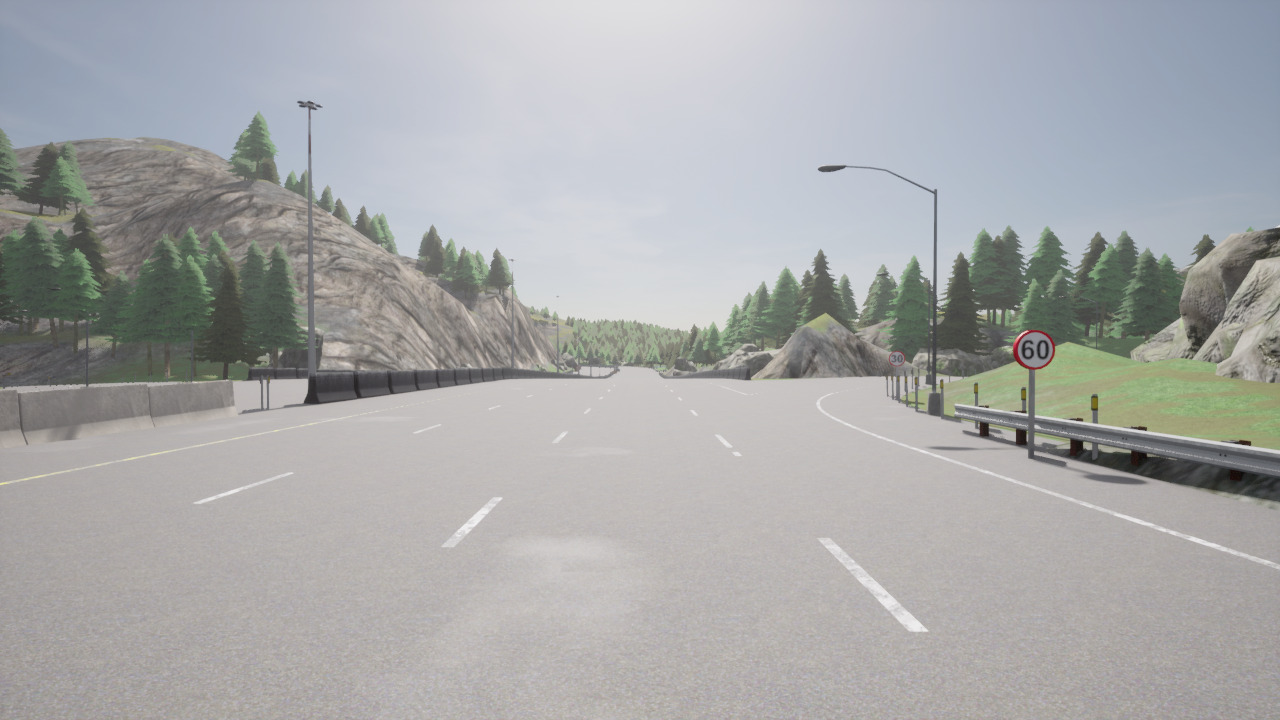sl30: (888, 350, 906, 367)
sl60: (1011, 328, 1057, 371)
